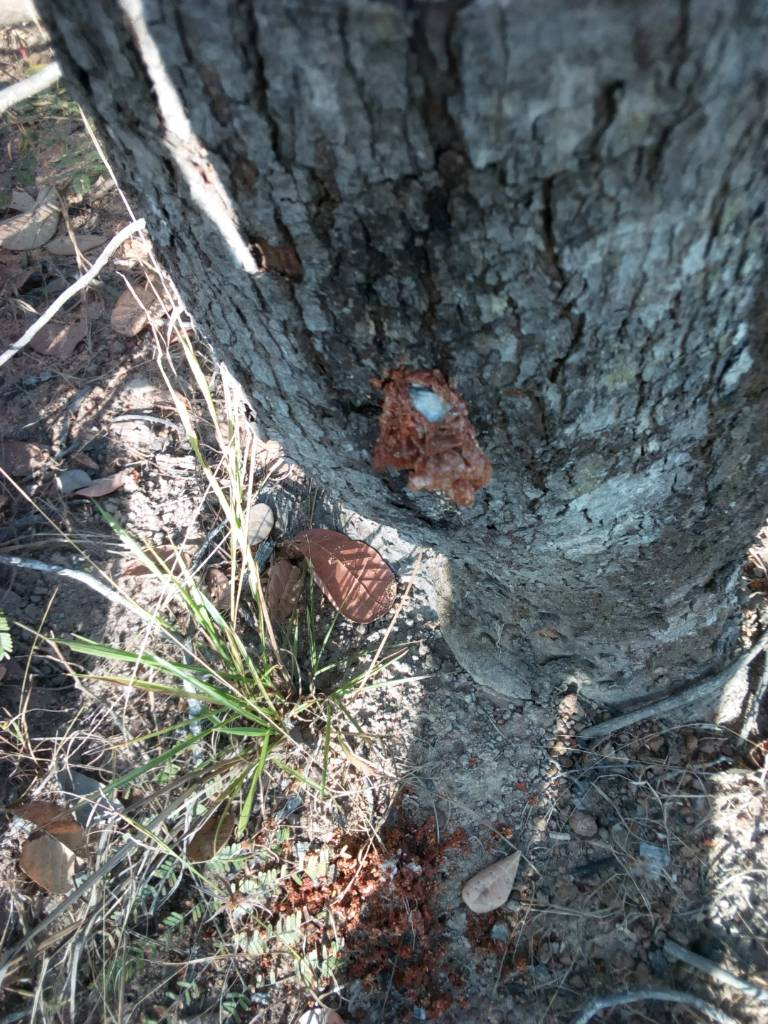Apate terebrans: (341, 363, 555, 544)
